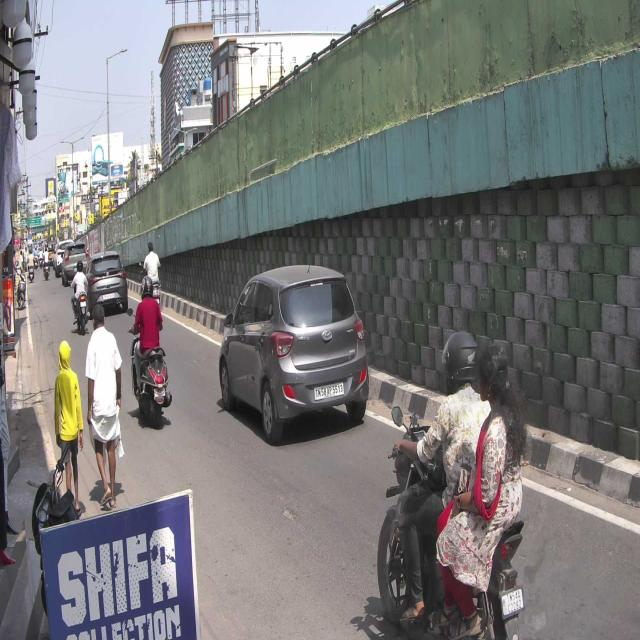double_rider: (376, 327, 530, 640)
single_rider: (126, 276, 173, 431)
